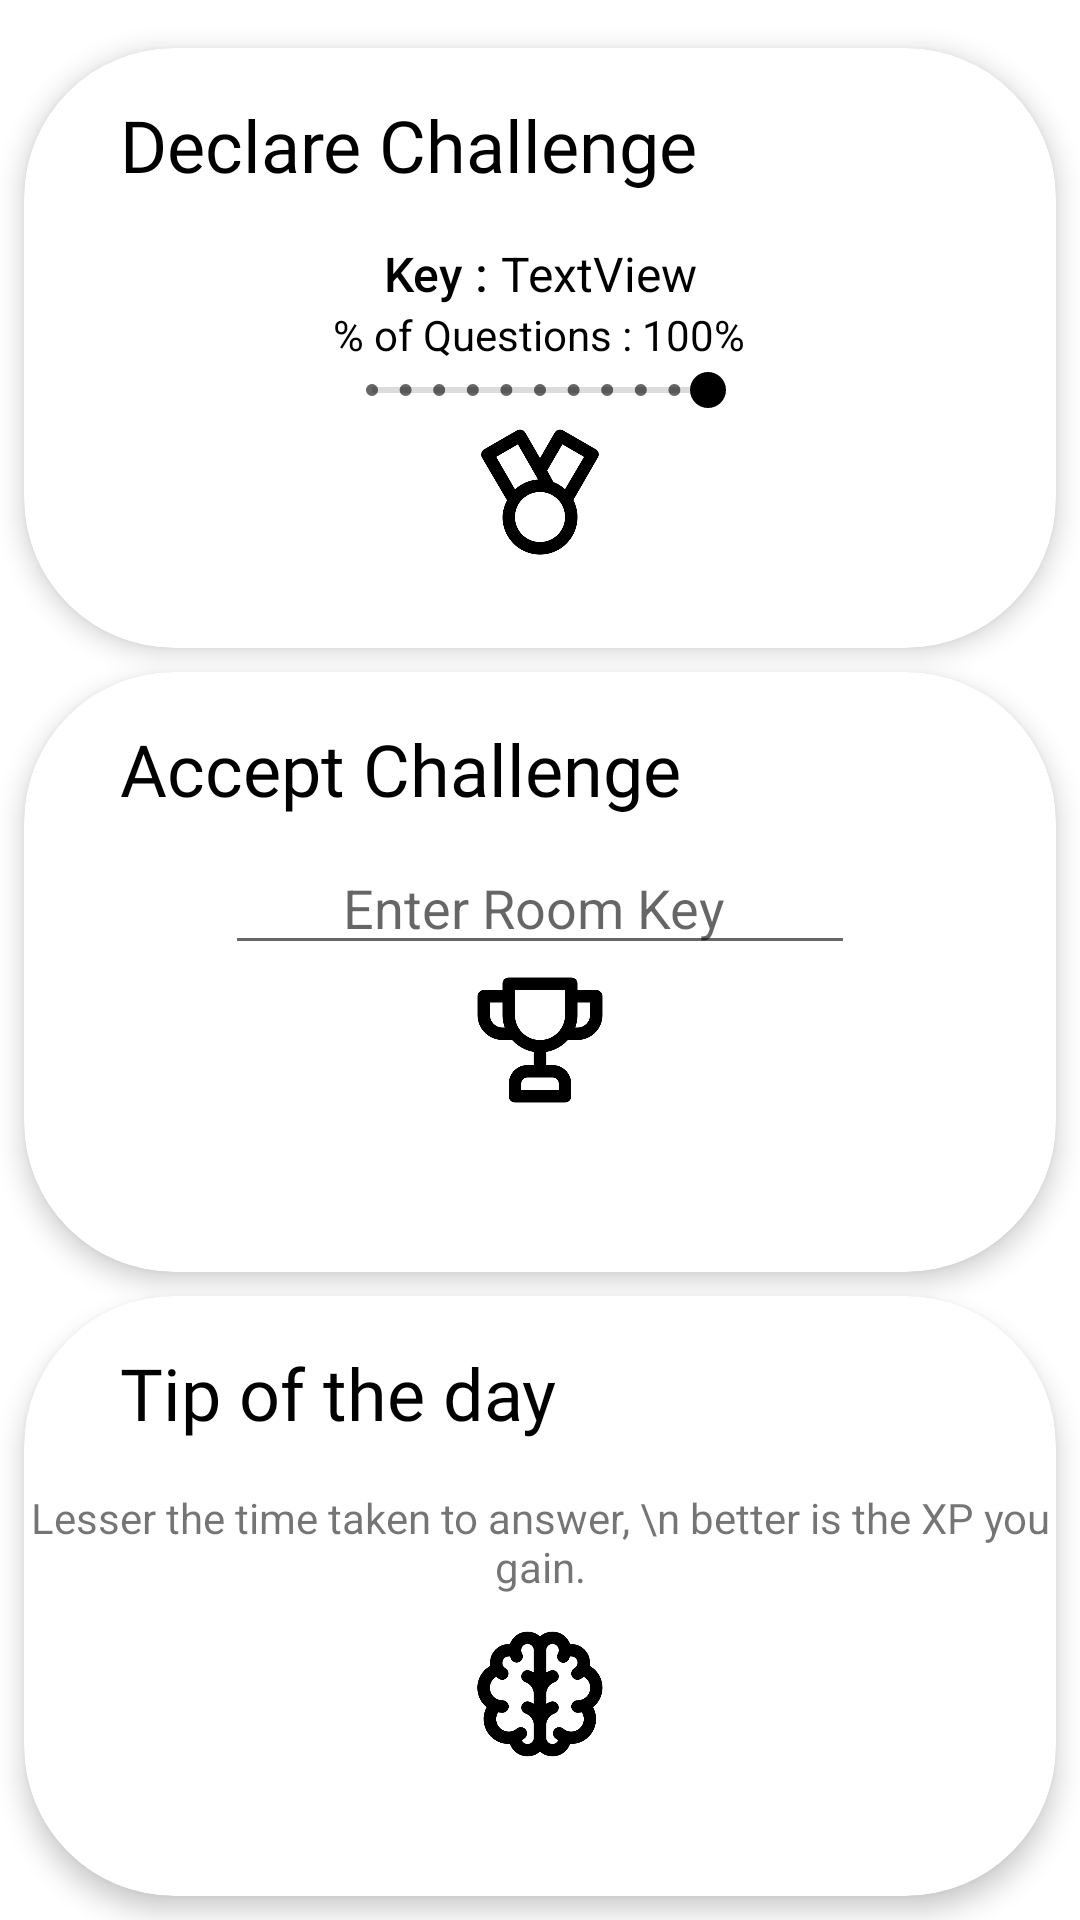

Named icons in this screenshot (1080px x 1920px) and their centers, [x,y]:
award: [540,492]
brain: [540,1694]
cup: [540,1040]
